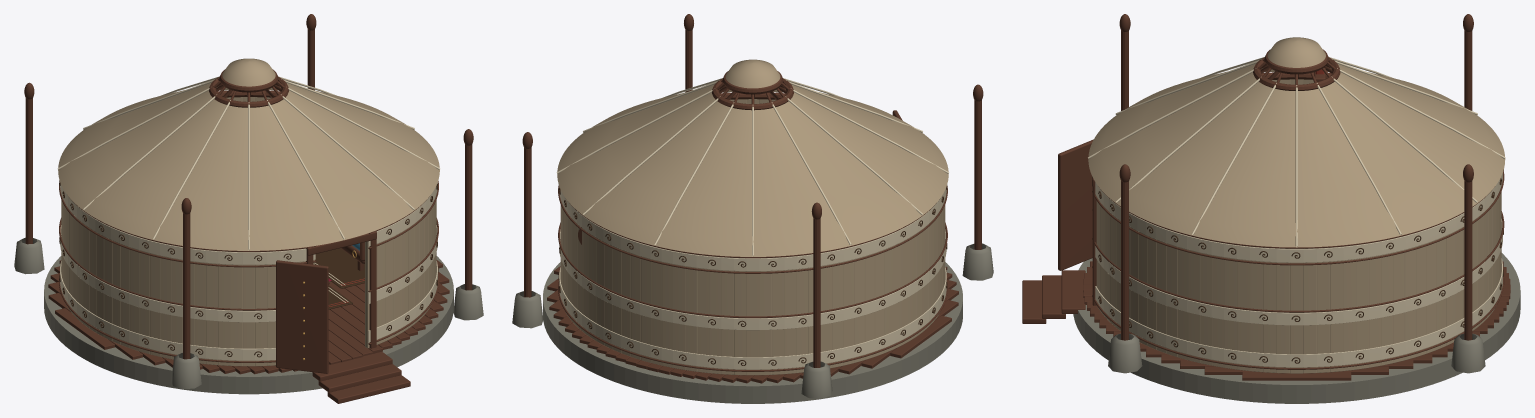
File: ger_shaman.glb
3 renders of one model, left to right at view 1: azimuth 30°, elevation 25°; view 2: azimuth 150°, elevation 25°; view 3: azimuth 270°, elevation 25°, orthographic. The views are drawn at different scales.
Parts seen in each view (by area): view 1: Conical felt roof, Stone circular foundation, Open carved door, Woven floor carpet.002, Crown cap, Exterior ceremonial post.002, Exterior ceremonial post, Exterior ceremonial post.001, Entrance step.002, Entrance step.001, Entrance step, Exterior felt panel.063 (+40 smaller); view 2: Conical felt roof, Stone circular foundation, Crown cap, Exterior ceremonial post.003, Exterior ceremonial post, Exterior ceremonial post.001, Exterior felt panel.032, Exterior felt panel.030, Exterior felt panel.034, Exterior felt panel.029, Exterior felt panel.035, Exterior felt panel.027 (+38 smaller); view 3: Conical felt roof, Stone circular foundation, Open carved door, Crown cap, Exterior ceremonial post.003, Exterior ceremonial post.002, Exterior felt panel, Exterior felt panel.001, Exterior felt panel.090, Exterior felt panel.089, Exterior felt panel.003, Exterior felt panel.087 (+47 smaller).
Part boxes in pixels (bbox=[...]): Conical felt roof: bbox=[58, 83, 439, 250]; Stone circular foundation: bbox=[44, 256, 453, 394]; Open carved door: bbox=[276, 260, 328, 373]; Woven floor carpet.002: bbox=[315, 248, 364, 288]; Crown cap: bbox=[222, 58, 275, 86]; Exterior ceremonial post.002: bbox=[465, 144, 472, 290]; Exterior ceremonial post: bbox=[183, 213, 190, 359]; Exterior ceremonial post.001: bbox=[25, 98, 32, 244]; Entrance step.002: bbox=[327, 375, 410, 403]; Entrance step.001: bbox=[318, 364, 401, 392]; Entrance step: bbox=[312, 351, 392, 381]; Exterior felt panel.063: bbox=[230, 252, 242, 366]; Conical felt roof: bbox=[557, 85, 948, 256]; Stone circular foundation: bbox=[543, 262, 962, 403]; Crown cap: bbox=[725, 59, 780, 88]; Exterior ceremonial post.003: bbox=[524, 147, 531, 297]; Exterior ceremonial post: bbox=[974, 100, 981, 249]; Exterior ceremonial post.001: bbox=[813, 218, 820, 367]; Exterior felt panel.032: bbox=[746, 271, 759, 375]; Exterior felt panel.030: bbox=[721, 257, 733, 374]; Exterior felt panel.034: bbox=[772, 257, 784, 374]; Exterior felt panel.029: bbox=[709, 256, 721, 374]; Exterior felt panel.035: bbox=[784, 256, 796, 374]; Exterior felt panel.027: bbox=[685, 253, 697, 371]; Conical felt roof: bbox=[1088, 64, 1505, 247]; Stone circular foundation: bbox=[1073, 253, 1520, 403]; Open carved door: bbox=[1058, 139, 1093, 270]; Crown cap: bbox=[1267, 37, 1325, 67]; Exterior ceremonial post.003: bbox=[1464, 181, 1472, 340]; Exterior ceremonial post.002: bbox=[1121, 181, 1128, 340]; Exterior felt panel: bbox=[1290, 248, 1303, 373]; Exterior felt panel.001: bbox=[1303, 248, 1316, 373]; Exterior felt panel.090: bbox=[1276, 248, 1289, 373]; Exterior felt panel.089: bbox=[1263, 247, 1276, 372]; Exterior felt panel.003: bbox=[1330, 246, 1343, 372]; Exterior felt panel.087: bbox=[1237, 245, 1250, 371].
Bounding box in the file's own units: 7.3 × 4.84 × 8.13.
